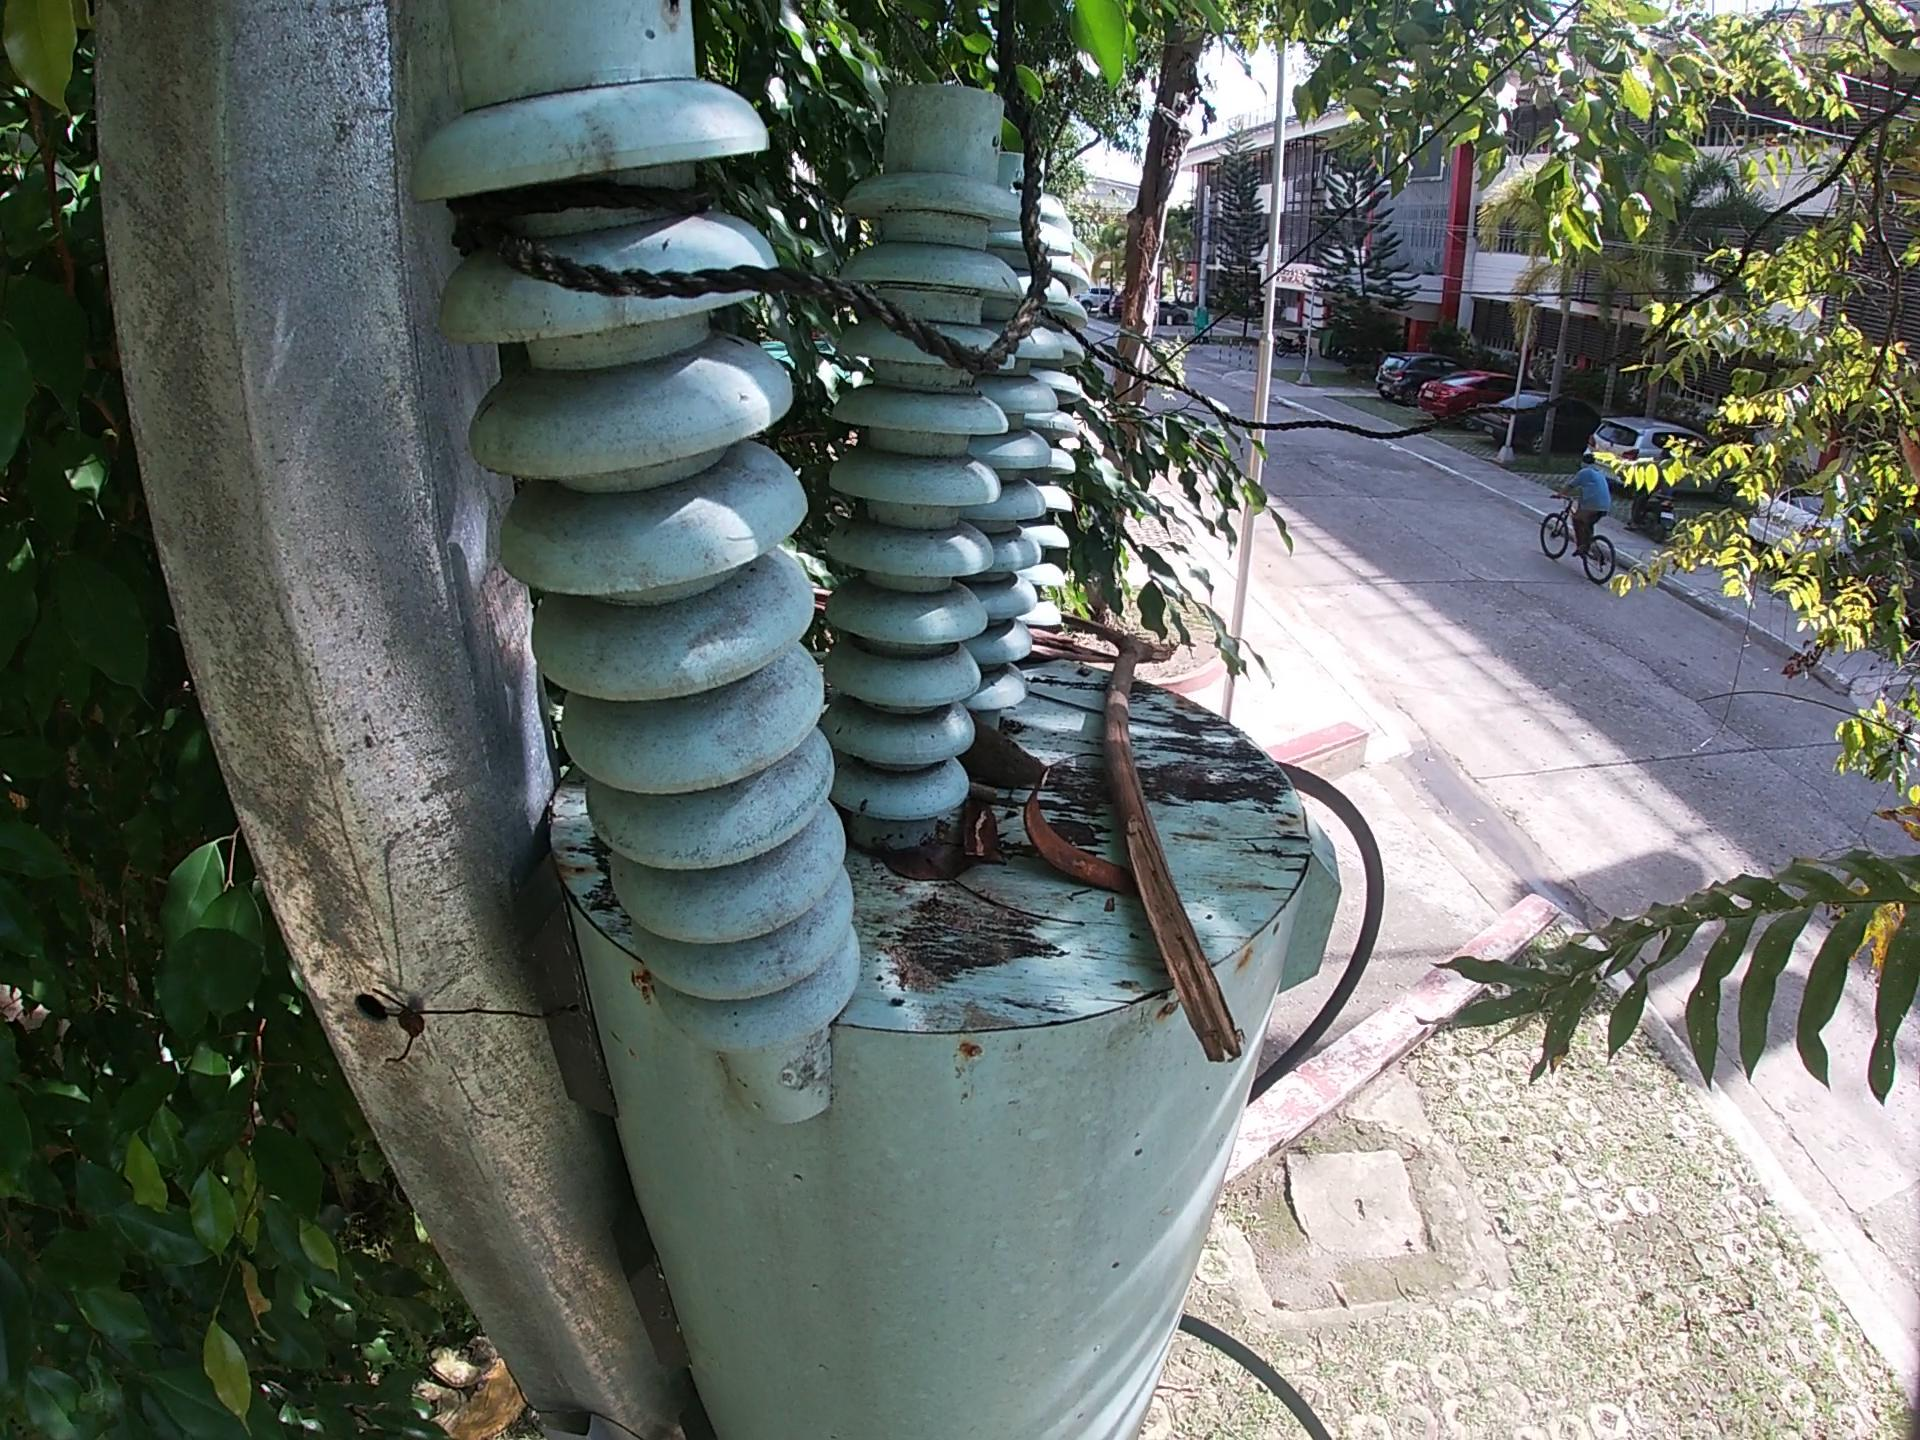leaf: (871, 858, 968, 892)
mahogany fruit: (1020, 787, 1120, 911), (968, 732, 1052, 808)
tree branch: (1076, 608, 1267, 1088), (955, 892, 1096, 936), (1025, 700, 1220, 731), (1017, 629, 1116, 653), (971, 793, 993, 885), (807, 588, 833, 617)
